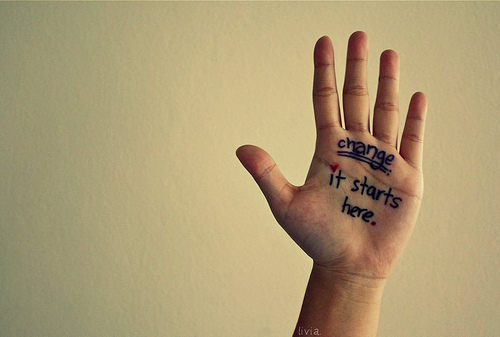palm: (309, 138, 415, 263)
